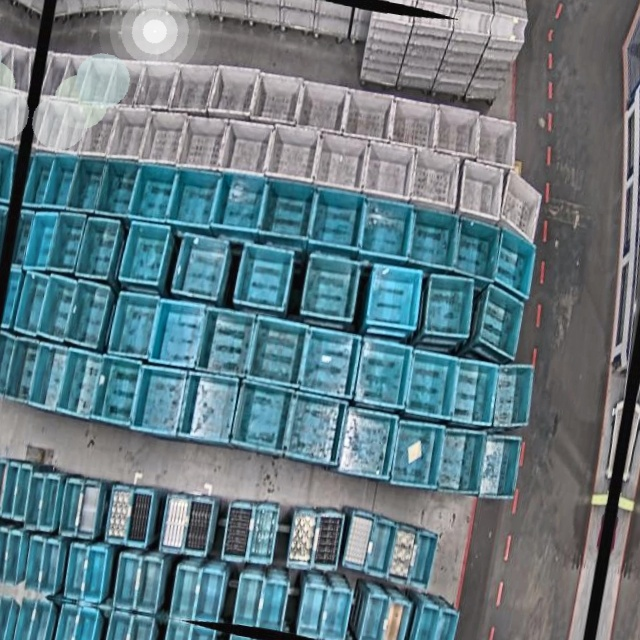Box: (297, 250, 364, 328), (230, 239, 297, 317), (362, 260, 428, 337), (245, 313, 311, 390), (352, 334, 416, 412), (298, 326, 364, 401), (335, 404, 398, 482), (386, 414, 448, 492), (168, 230, 231, 305), (470, 283, 529, 363), (231, 379, 293, 455), (282, 390, 343, 467), (305, 184, 370, 255), (401, 346, 461, 421), (435, 423, 494, 498), (420, 270, 482, 341), (356, 194, 417, 265), (259, 177, 321, 246), (310, 130, 372, 199), (150, 296, 207, 370), (184, 372, 240, 446), (449, 355, 505, 429), (358, 139, 418, 208), (407, 148, 466, 218), (472, 428, 527, 503), (200, 307, 256, 380), (264, 122, 325, 189), (211, 169, 270, 238), (406, 203, 464, 273), (134, 365, 190, 437), (447, 213, 504, 283), (453, 159, 513, 225), (108, 288, 161, 361), (488, 230, 541, 303), (91, 355, 144, 428), (489, 358, 539, 435), (168, 164, 225, 231), (119, 219, 172, 290), (218, 117, 275, 183), (497, 169, 546, 245), (248, 67, 307, 130), (292, 77, 351, 140), (338, 83, 397, 145), (386, 93, 444, 156), (465, 111, 522, 174), (205, 59, 260, 123), (64, 280, 114, 349), (177, 112, 230, 177), (429, 103, 483, 165), (129, 161, 180, 226), (77, 214, 124, 282), (132, 54, 183, 116), (168, 57, 219, 119), (140, 108, 190, 168), (97, 156, 142, 219), (106, 105, 152, 165), (54, 348, 93, 417), (30, 344, 70, 411), (66, 153, 109, 215), (40, 276, 81, 341), (48, 211, 89, 275), (77, 103, 121, 162), (309, 508, 347, 574), (13, 271, 51, 336), (4, 338, 42, 403), (78, 52, 121, 109), (362, 516, 400, 580), (244, 500, 281, 565), (53, 100, 94, 158), (339, 508, 376, 572), (288, 505, 324, 570), (222, 498, 257, 564), (104, 57, 145, 113), (42, 149, 79, 211), (24, 210, 60, 272), (384, 524, 418, 588), (183, 495, 217, 558), (159, 492, 193, 555), (406, 530, 440, 593), (191, 565, 227, 624), (123, 485, 156, 549), (170, 563, 204, 622), (58, 51, 95, 105), (104, 482, 135, 545), (319, 585, 354, 640), (35, 99, 70, 154), (255, 576, 289, 632), (133, 555, 165, 614), (22, 150, 54, 208), (296, 586, 330, 640), (75, 478, 105, 539), (80, 545, 111, 604), (232, 575, 266, 628), (112, 552, 143, 610), (62, 545, 91, 604), (38, 537, 66, 597), (56, 476, 84, 535), (39, 50, 70, 103), (10, 209, 36, 271), (357, 592, 390, 640), (35, 471, 61, 531), (21, 536, 48, 593), (0, 267, 23, 331), (10, 461, 34, 521), (380, 596, 412, 640), (2, 530, 26, 587), (0, 459, 22, 519), (411, 602, 444, 640), (0, 330, 16, 396), (432, 608, 460, 640), (451, 18, 492, 38), (413, 12, 455, 31), (488, 25, 527, 44), (0, 528, 13, 584), (371, 9, 415, 25), (0, 458, 9, 516), (0, 525, 3, 581)
